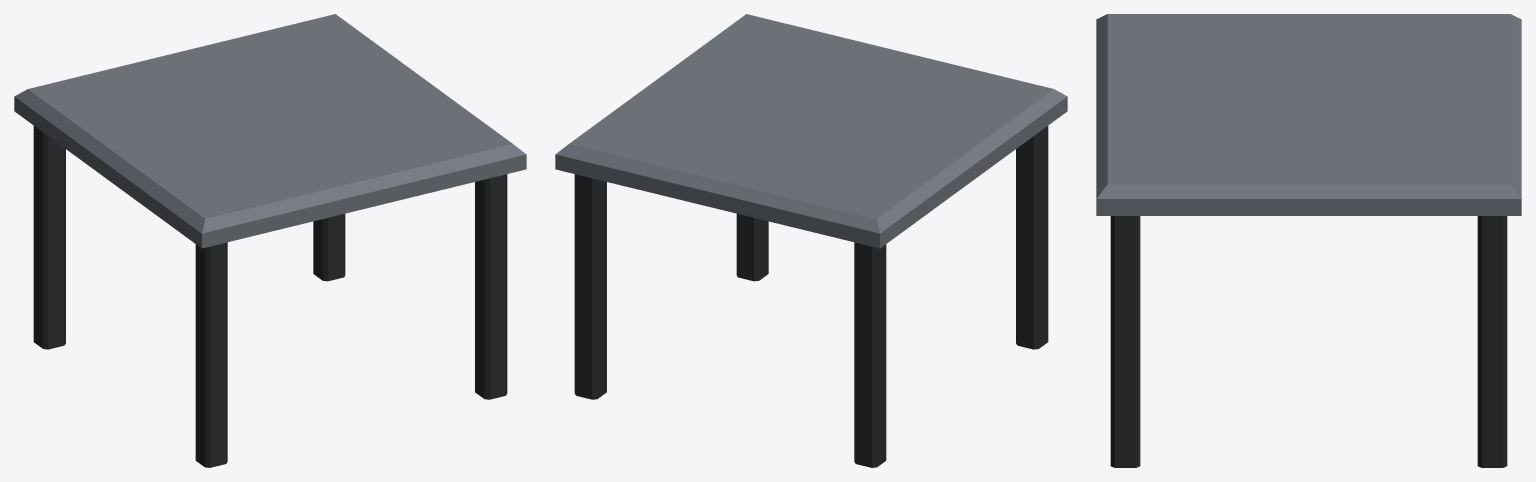
The model's file is Table Small.fbx.
The picture shows the model from 3 angles, left to right: view 1: azimuth 30°, elevation 25°; view 2: azimuth 150°, elevation 25°; view 3: azimuth 270°, elevation 25°; orthographic projection. The views are drawn at different scales.
Parts seen in each view (by area): view 1: Table Small; view 2: Table Small; view 3: Table Small.
Part boxes in pixels (bbox=[...]): Table Small: bbox=[14, 14, 526, 467]; Table Small: bbox=[555, 14, 1067, 467]; Table Small: bbox=[1096, 14, 1521, 467].
Bounding box in the file's own units: 100 × 73.99 × 100.
